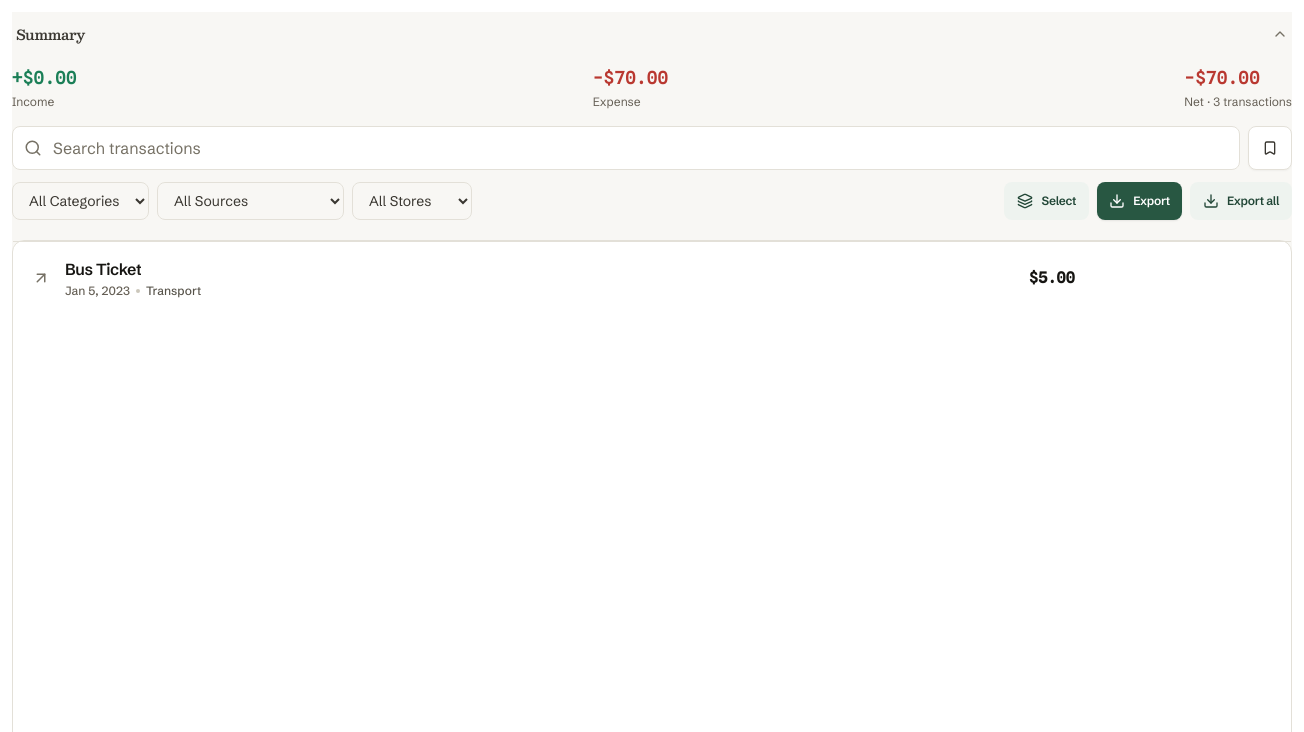
Test: TransactionMasterList › Filtering › filters by category
The width and height of the screenshot is (1304, 732).
Select "Food" in the 1st dropdown at (80, 201), box x1=12 y1=182 x2=149 y2=220
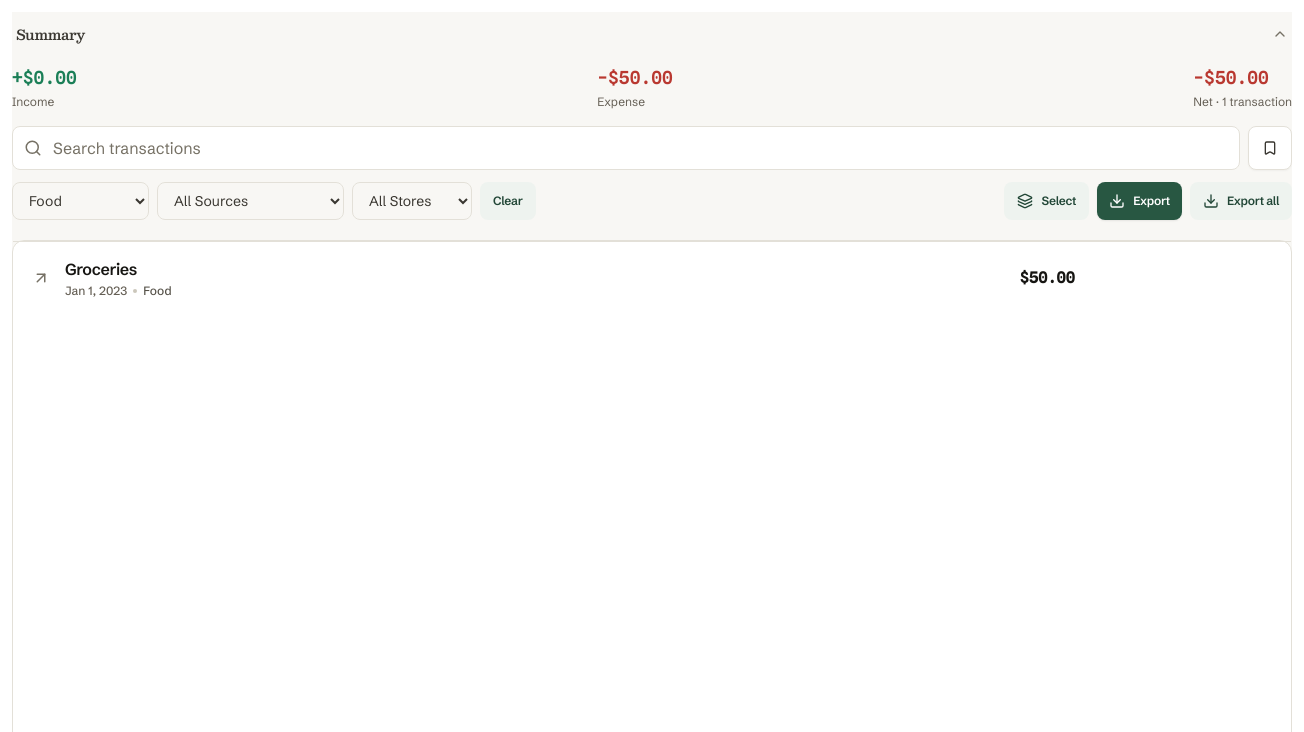
Expected: the text "Groceries" is shown, x1=65 y1=257 x2=137 y2=281
Expected: the button "Bus Ticket" is gone
